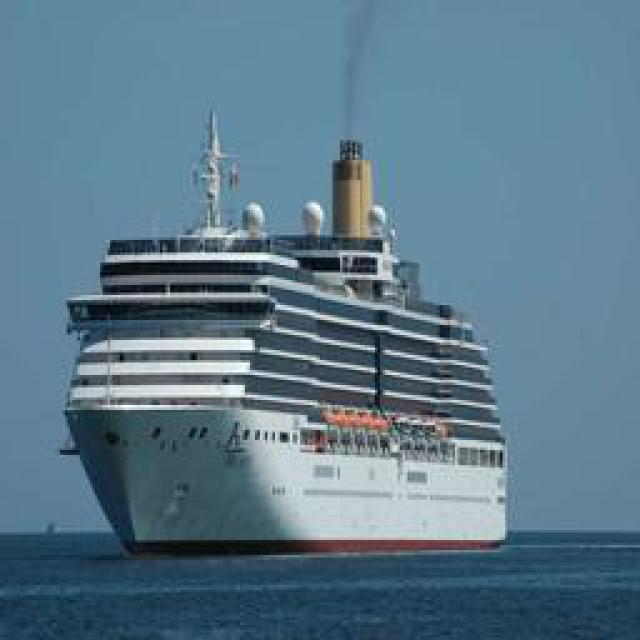Ship: (54, 97, 517, 565)
